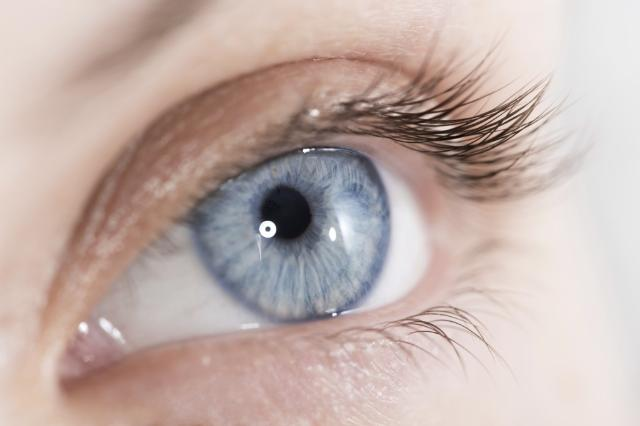eye: (185, 136, 395, 328)
